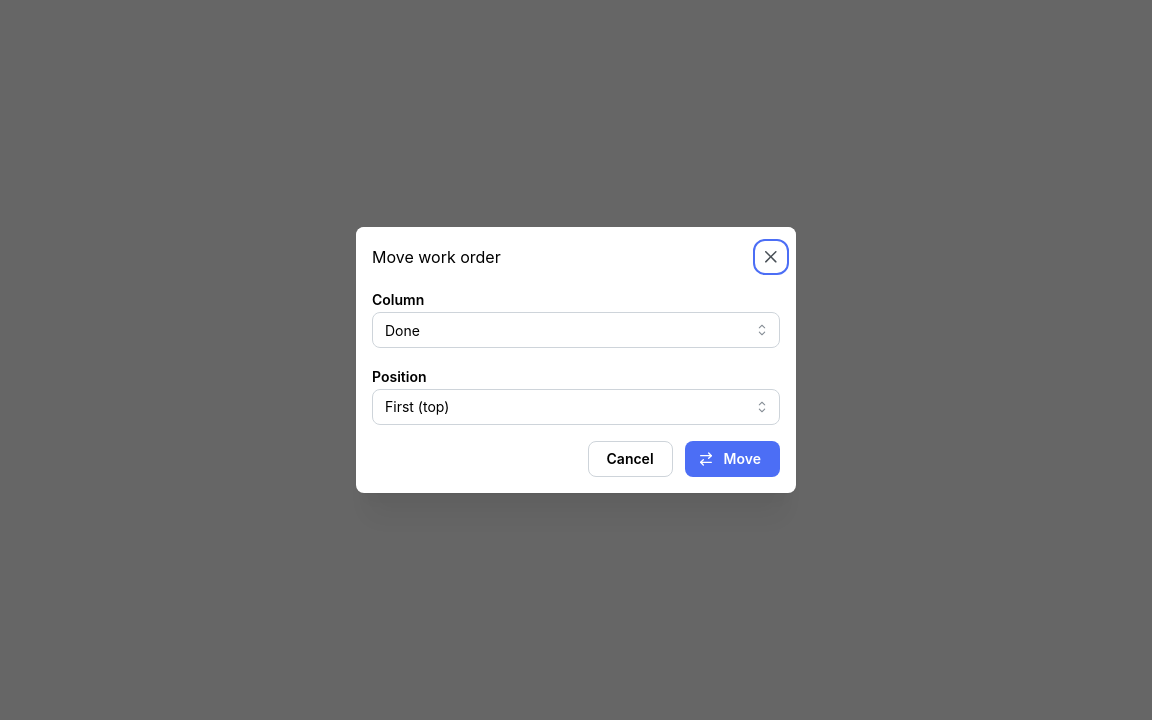
it: MoveCardModal › offers every lane in the permissive default
The image size is (1152, 720).
Click the dropdown labelled "Column".
click(576, 330)  # box [372,312,780,348]
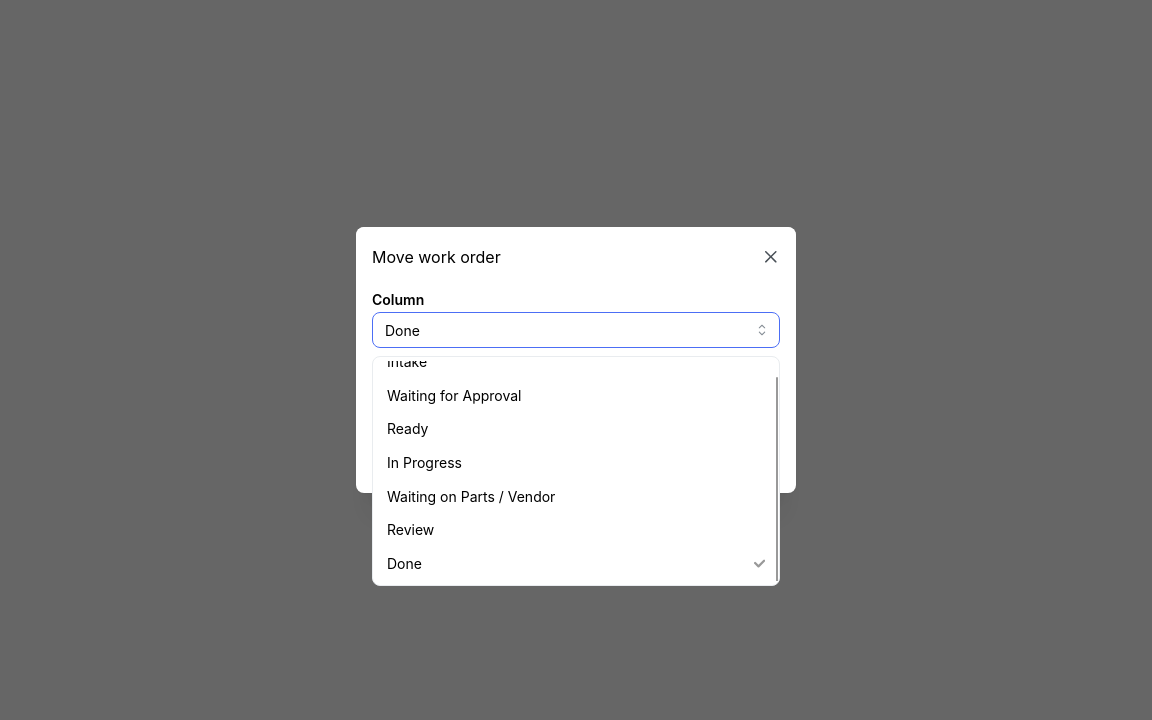
Expected: the number of options is 7
